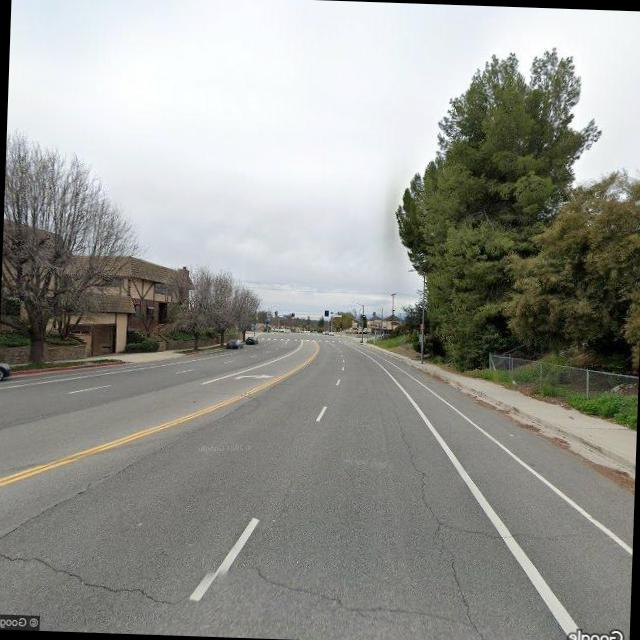crack: (0, 377, 266, 547), (391, 419, 495, 640), (246, 564, 470, 632), (0, 543, 185, 606), (446, 521, 574, 545)
